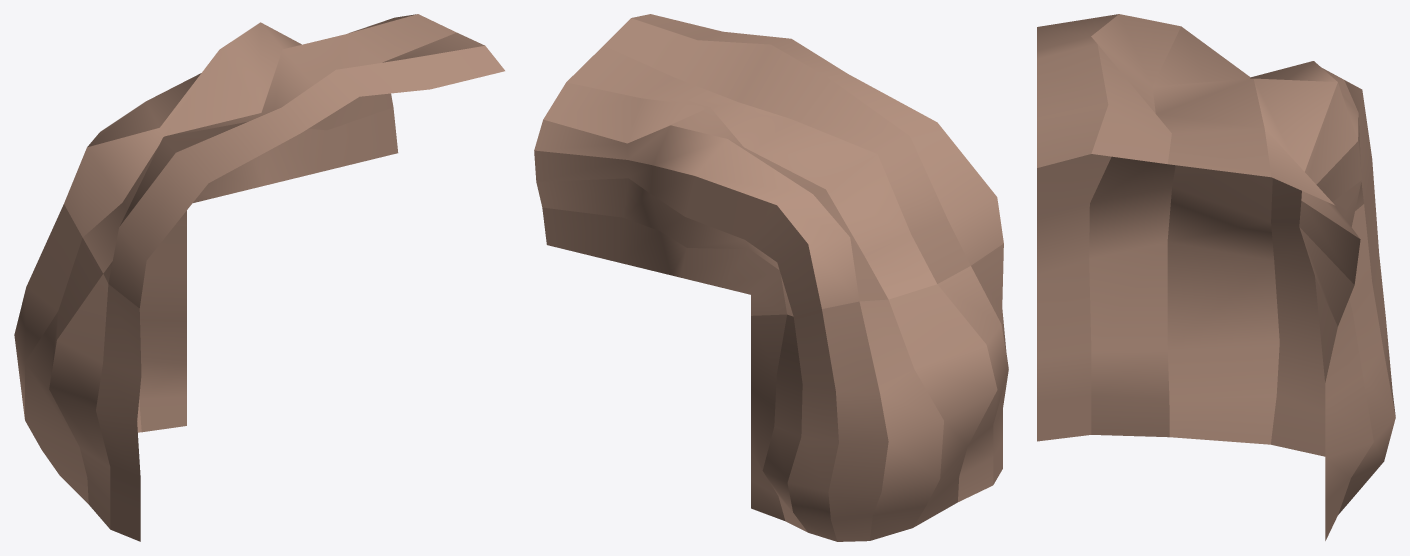
Rendered from corner bottom.fbx.
The picture shows the model from 3 angles, left to right: view 1: azimuth 30°, elevation 25°; view 2: azimuth 150°, elevation 25°; view 3: azimuth 270°, elevation 25°; orthographic projection. The views are drawn at different scales.
Parts seen in each view (by area): view 1: pasted__polySurface1; view 2: pasted__polySurface1; view 3: pasted__polySurface1.
Part boxes in pixels (x1,y1,x2,y2): pasted__polySurface1: (14,14,504,541); pasted__polySurface1: (534,14,1008,541); pasted__polySurface1: (1037,14,1395,540).
Size of the model in its own units: 12.3 by 11.6 by 6.98.
